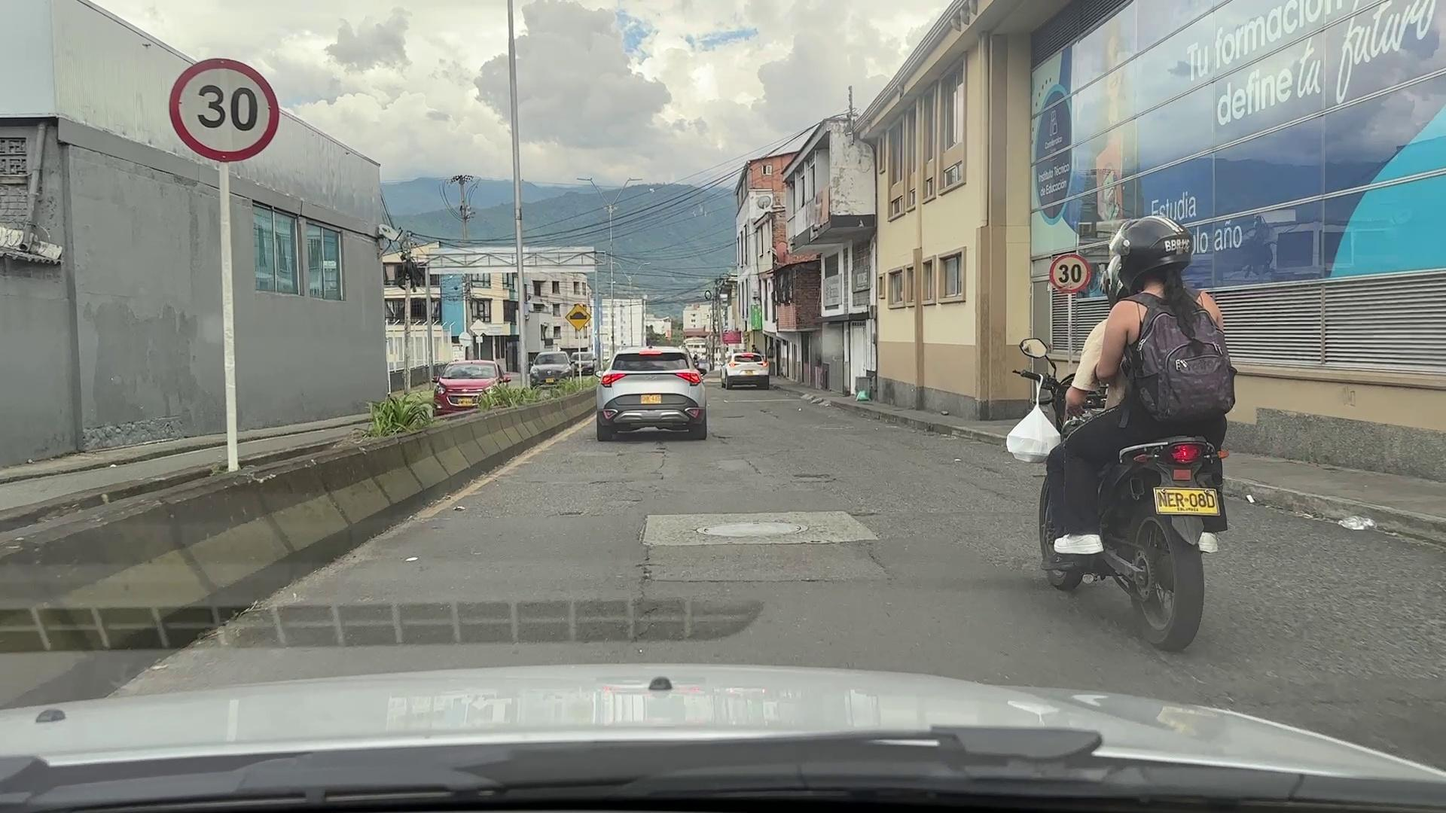bache: (792, 474, 830, 478), (849, 513, 877, 516)
grieta: (650, 440, 668, 469)
registro: (696, 521, 808, 537)
